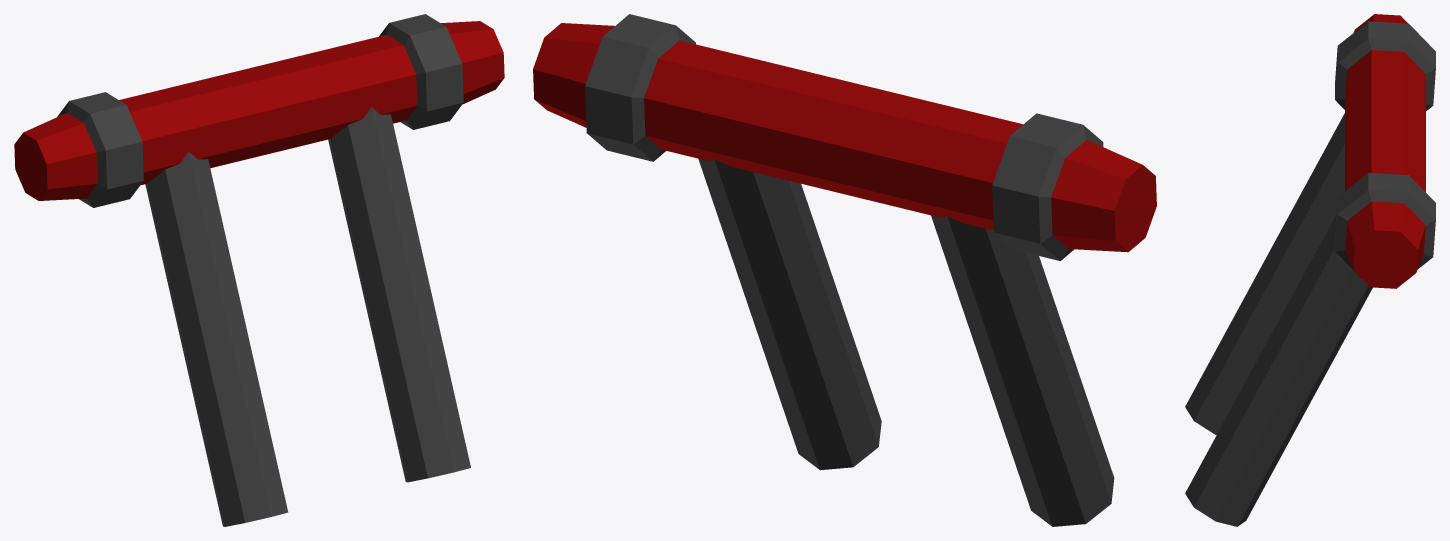
Rendered from salter.fbx.
3 renders of one model, left to right at view 1: azimuth 30°, elevation 25°; view 2: azimuth 150°, elevation 25°; view 3: azimuth 270°, elevation 25°, orthographic. The views are drawn at different scales.
Parts seen in each view (by area): view 1: Cylinder.001; view 2: Cylinder.001; view 3: Cylinder.001.
Part boxes in pixels (x1,y1,x2,y2): Cylinder.001: [14, 14, 504, 526]; Cylinder.001: [533, 14, 1156, 526]; Cylinder.001: [1185, 14, 1435, 526].
Bounding box in the file's own units: 150 × 120 × 73.54.
